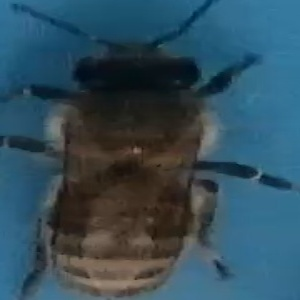bee: (13, 5, 283, 300)
